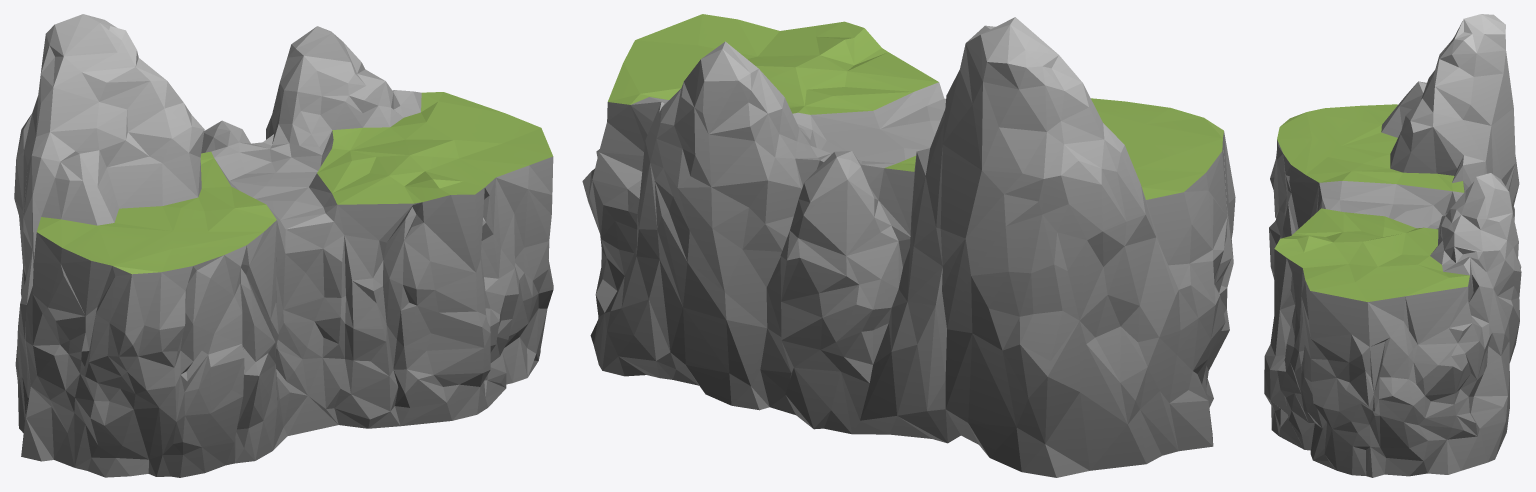
The model's file is mountain-2.glb.
3 views of the same model, side by side, from view 1: azimuth 30°, elevation 25°; view 2: azimuth 150°, elevation 25°; view 3: azimuth 270°, elevation 25° (orthographic). The views are drawn at different scales.
Parts seen in each view (by area): view 1: mountain 2; view 2: mountain 2; view 3: mountain 2.
Part boxes in pixels (x1,y1,x2,y2): mountain 2: (14, 14, 553, 477); mountain 2: (582, 14, 1235, 477); mountain 2: (1264, 14, 1521, 477).
Size of the model in its own units: 38.86 by 26.64 by 20.14.
Materials: 1 (1 with a texture image).
